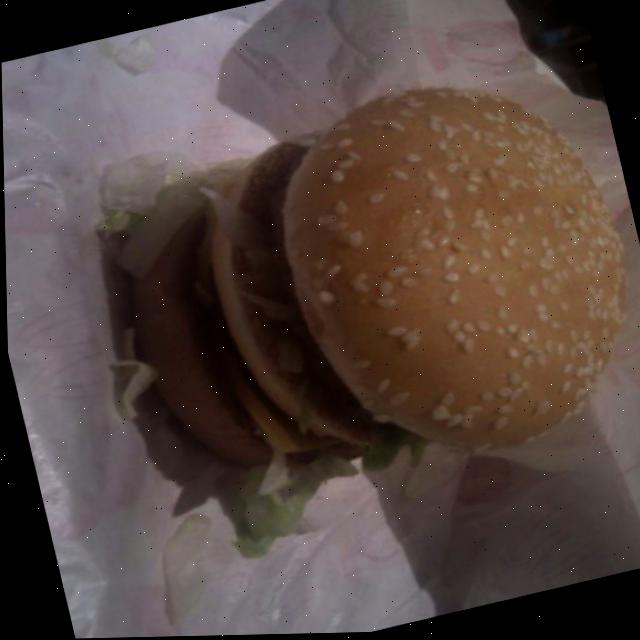汉堡快餐: (72, 52, 640, 554)
